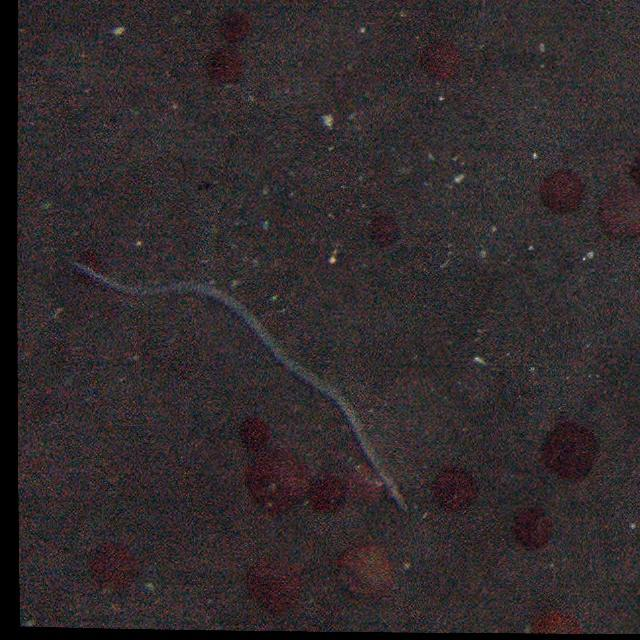eel: (68, 256, 414, 516)
